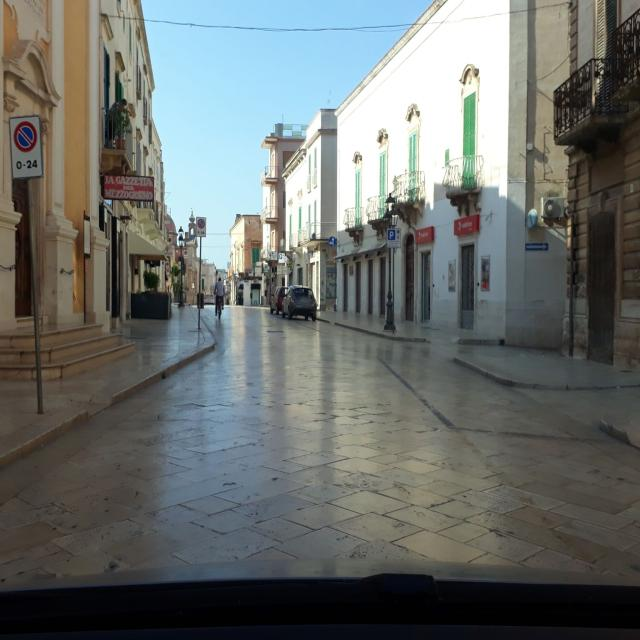forb_stopping: (14, 122, 37, 153), (198, 220, 204, 228)
